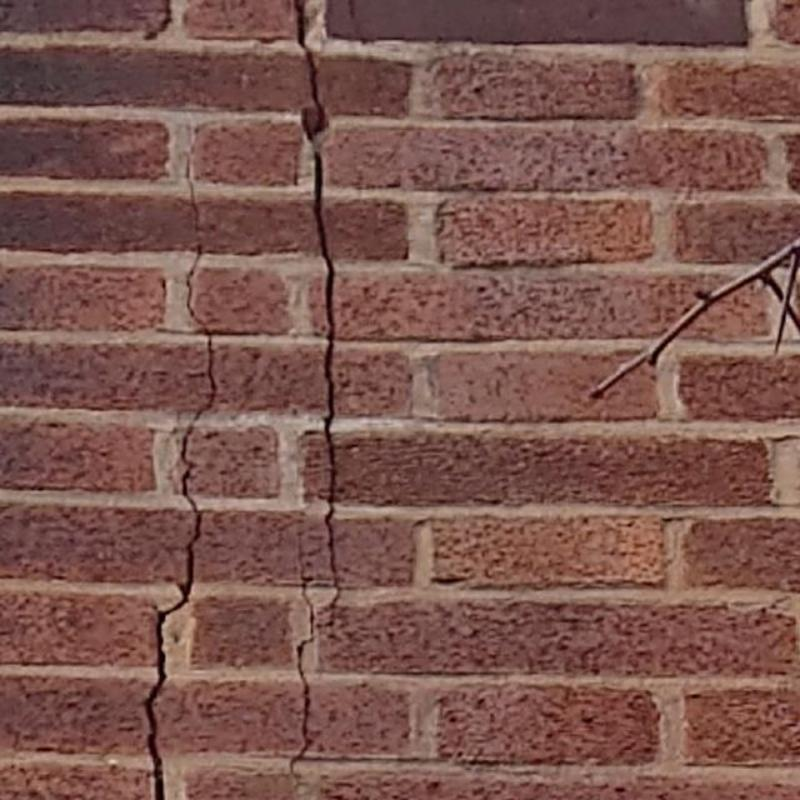pothole: (144, 133, 216, 800), (312, 140, 342, 617), (289, 581, 314, 775), (300, 1, 327, 141)
